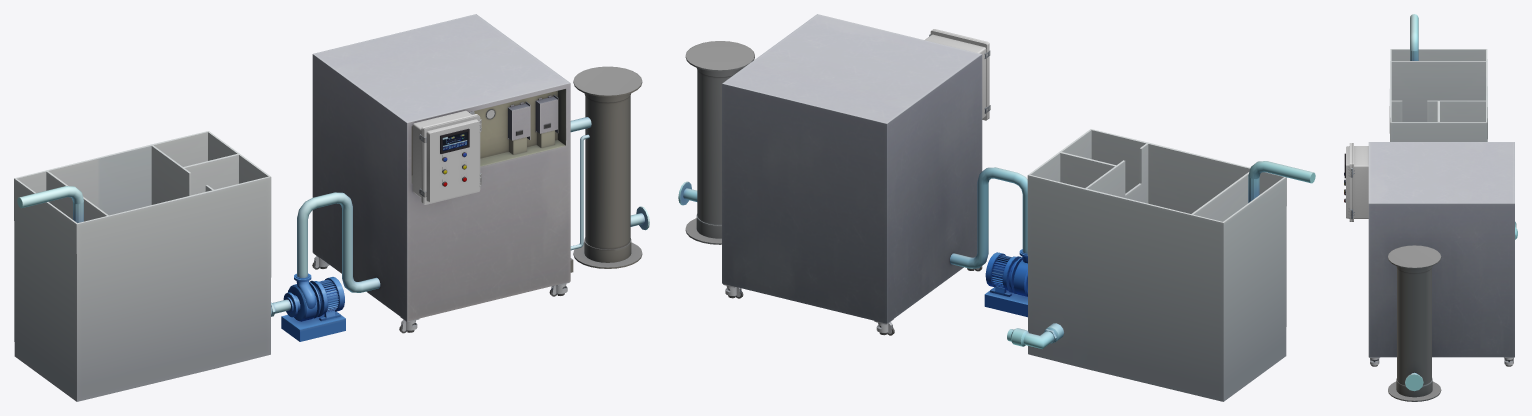
The model's file is NeoEco_Test.glb.
3 renders of one model, left to right at view 1: azimuth 30°, elevation 25°; view 2: azimuth 150°, elevation 25°; view 3: azimuth 270°, elevation 25°, orthographic. The views are drawn at different scales.
Parts seen in each view (by area): view 1: NeoEco_mesh.001; view 2: NeoEco_mesh.001; view 3: NeoEco_mesh.001.
Part boxes in pixels (x1=…): NeoEco_mesh.001: x1=14, y1=14, x2=649, y2=401; NeoEco_mesh.001: x1=678, y1=14, x2=1315, y2=401; NeoEco_mesh.001: x1=1344, y1=14, x2=1517, y2=401.
Size of the model in its own units: 10.17 by 3.34 by 3.17.
2 materials, 2 textured.
